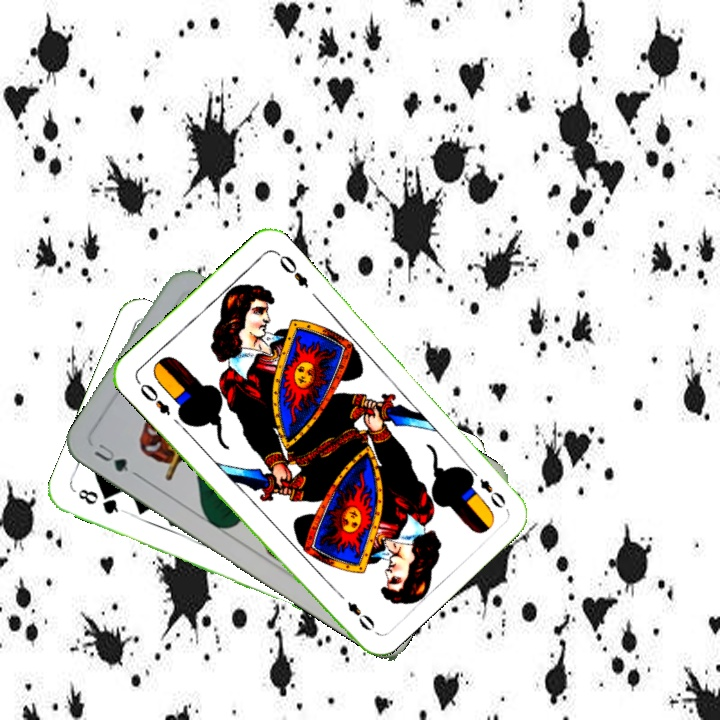EO: (464, 463, 509, 512), (132, 376, 173, 418)
G8: (74, 484, 128, 517)
GU: (90, 439, 140, 479)
